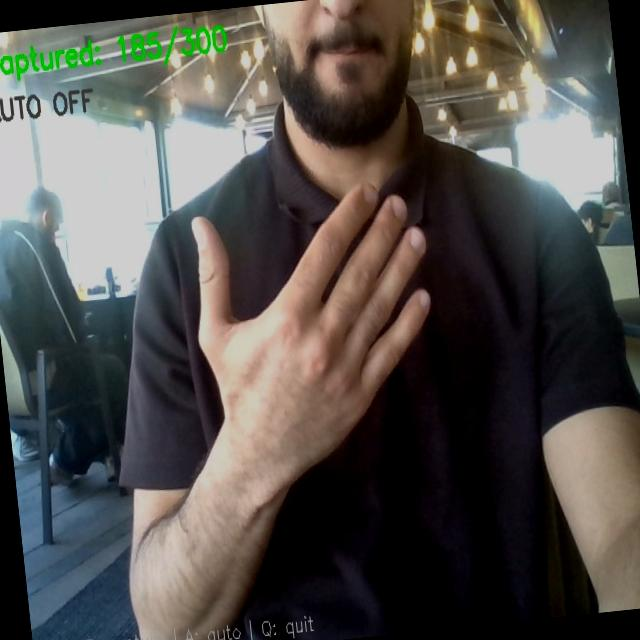Hand: (192, 185, 429, 483)
